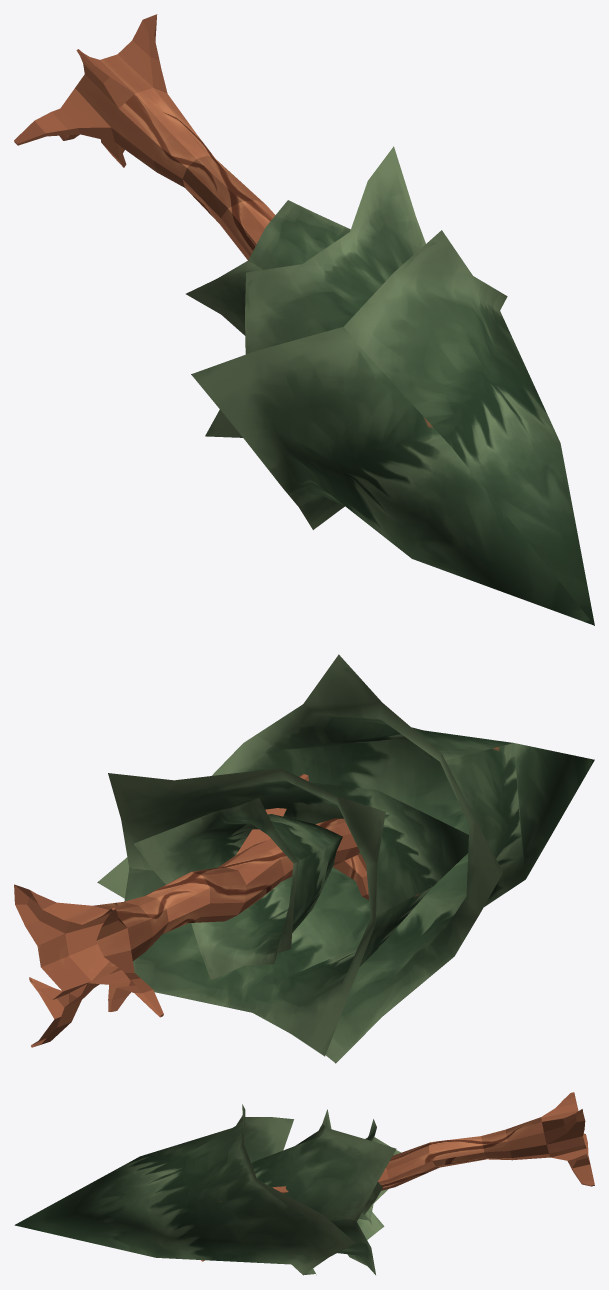
The model's file is PineTree2.fbx.
3 renders of one model, top to bottom at view 1: azimuth 30°, elevation 25°; view 2: azimuth 150°, elevation 25°; view 3: azimuth 270°, elevation 25°, orthographic. The views are drawn at different scales.
Visible parts, largest first — view 1: TreeLeaves3, TreeTrunk, TreeLeaves2, TreeLeaves1; view 2: TreeLeaves3, TreeLeaves2, TreeTrunk, TreeLeaves1; view 3: TreeLeaves3, TreeLeaves2, TreeTrunk, TreeLeaves1.
Part boxes in pixels (bbox=[...]): TreeLeaves3: bbox=[191, 230, 594, 625]; TreeTrunk: bbox=[14, 14, 275, 260]; TreeLeaves2: bbox=[205, 146, 425, 437]; TreeLeaves1: bbox=[186, 200, 350, 335]; TreeLeaves3: bbox=[97, 654, 594, 1063]; TreeLeaves2: bbox=[108, 768, 468, 1056]; TreeTrunk: bbox=[14, 774, 368, 1047]; TreeLeaves1: bbox=[133, 798, 342, 980]; TreeLeaves3: bbox=[14, 1104, 355, 1275]; TreeLeaves2: bbox=[251, 1109, 396, 1274]; TreeTrunk: bbox=[201, 1092, 594, 1261]; TreeLeaves1: bbox=[358, 1119, 400, 1225].
Bounding box in the file's own units: 2561 × 2403 × 6683.
1 material, 1 textured.
